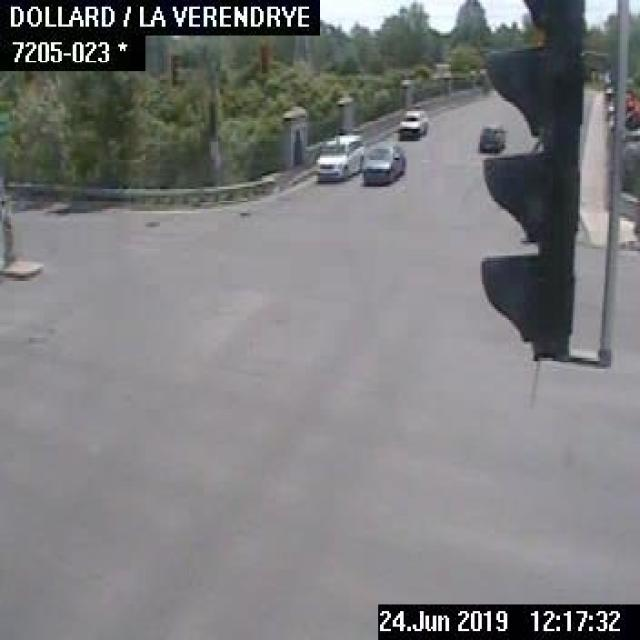vehicle: (314, 132, 364, 179), (358, 142, 404, 185), (395, 105, 428, 136), (476, 120, 506, 153)
